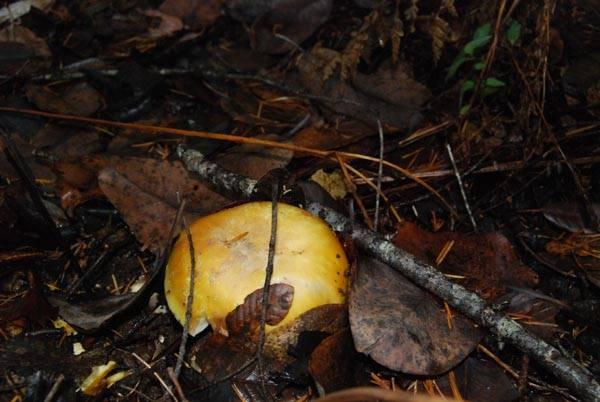edible_mushroom: (162, 198, 352, 383)
